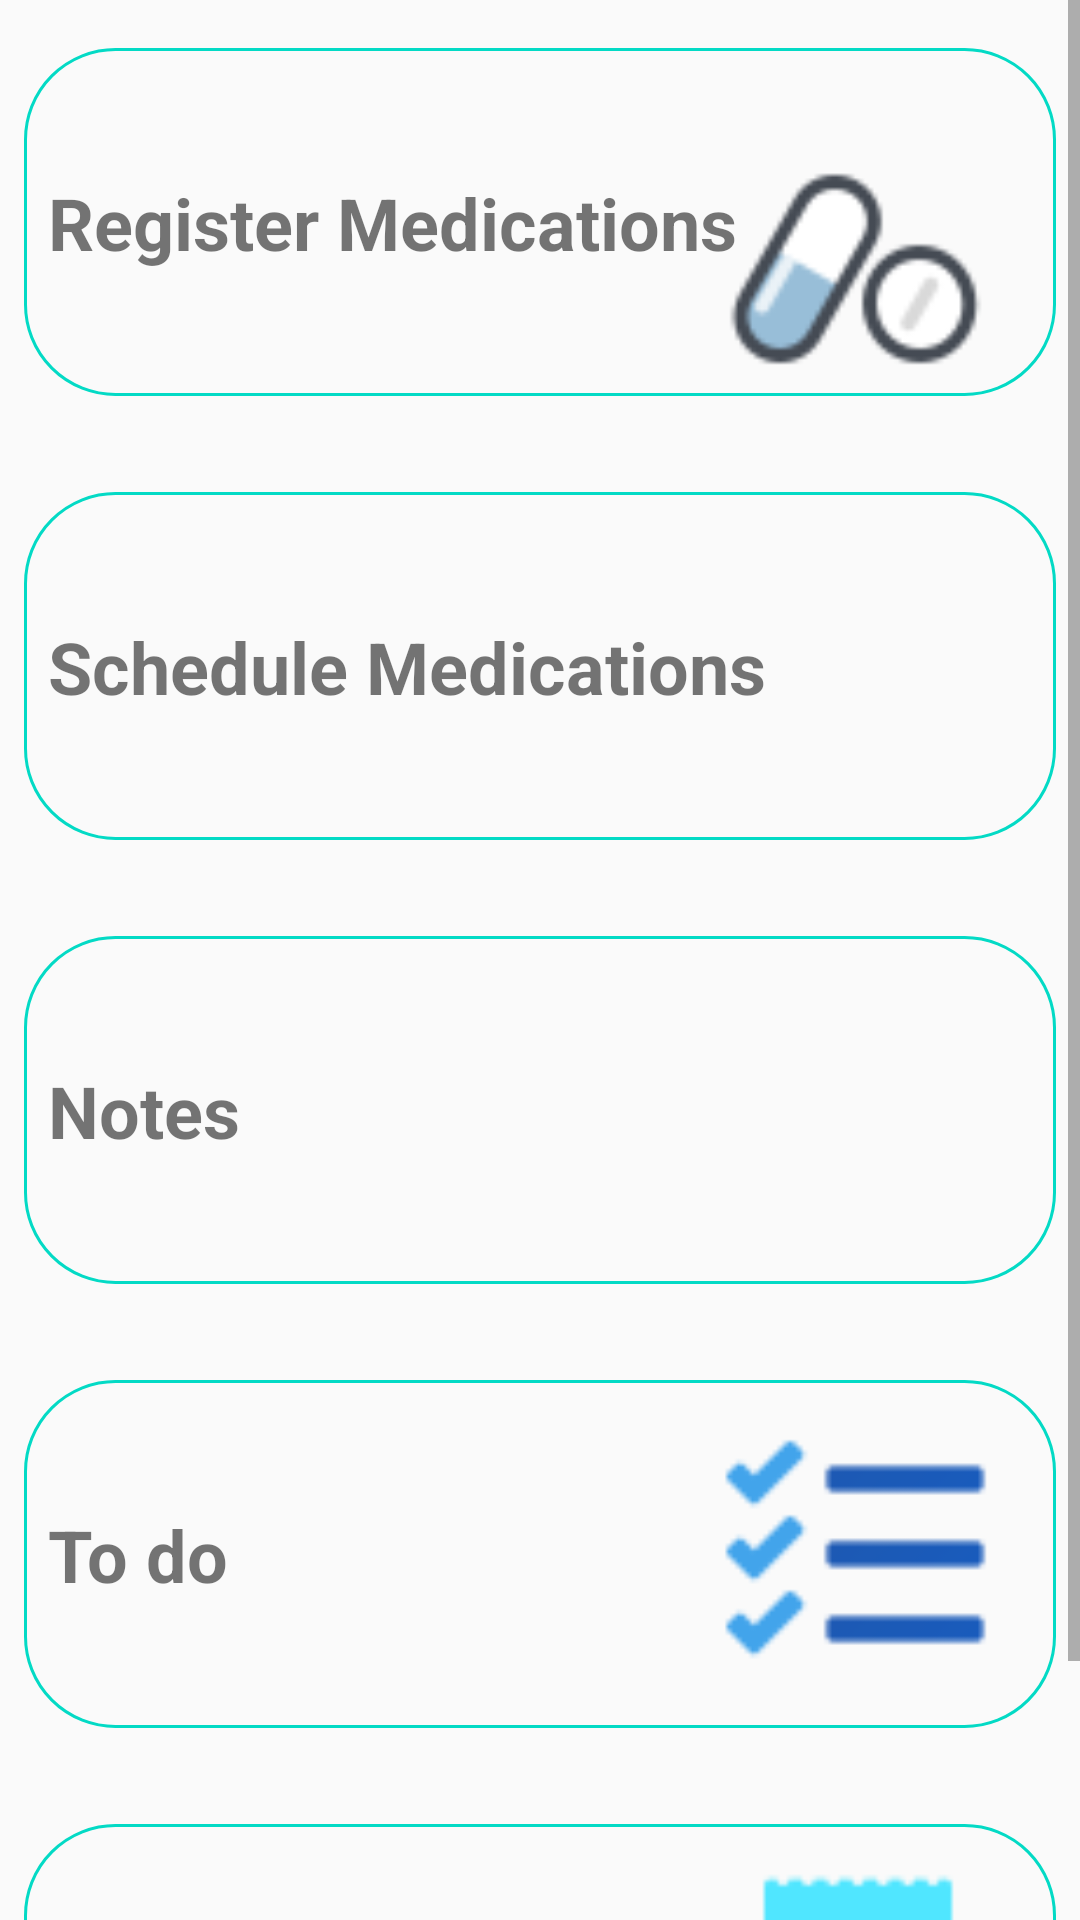

Locate icon controls on the screen. Image size 1080×1920, boxes as (x1, y1, x2, y2).
register pill: (731, 173, 979, 364)
todo: (725, 1440, 986, 1657)
